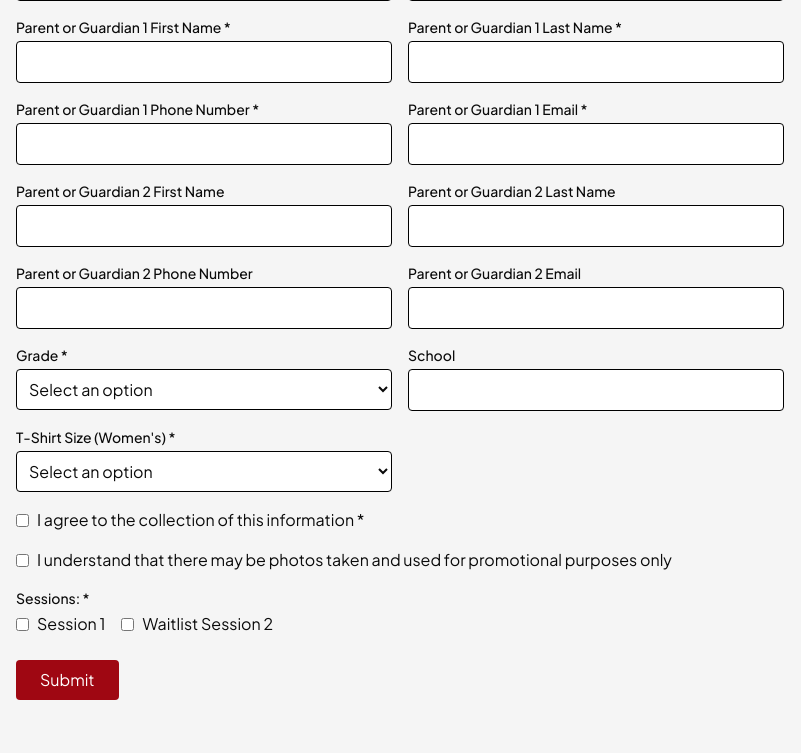
Test: Form › shows error if sessions are not selected
(page scrolled)
Click the button "Submit": point(67, 680) [16, 660, 119, 700]
(page scrolled)
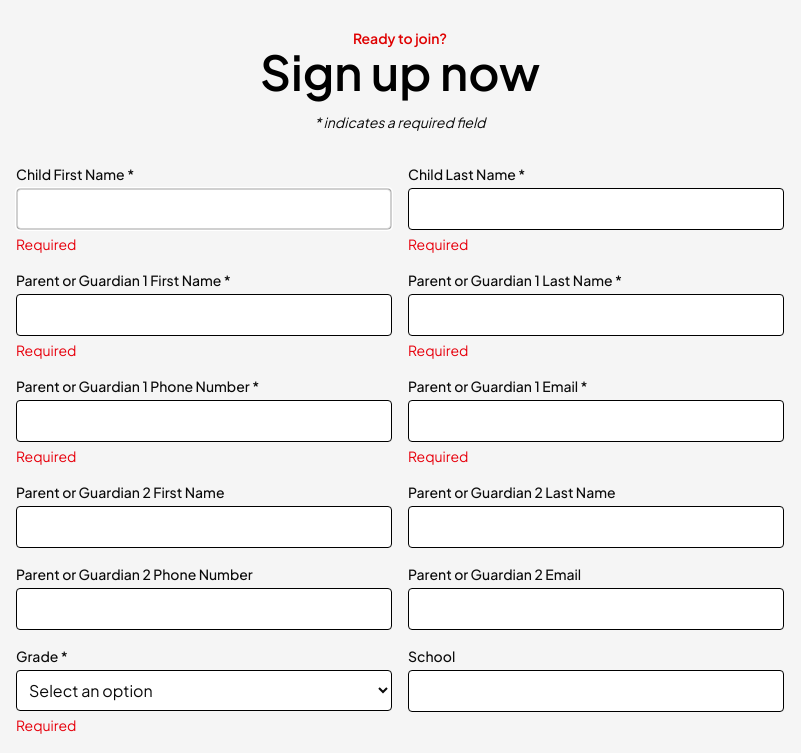
Expected: the text "* indicates a required field" is shown, [314, 113, 485, 131]
